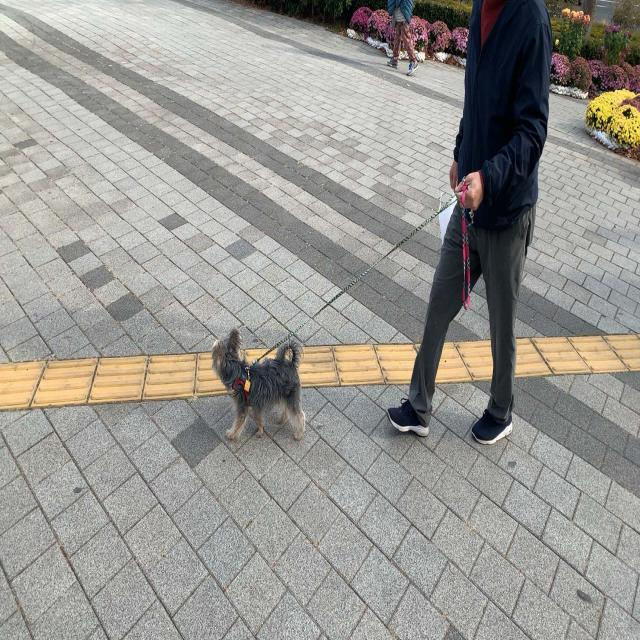Leashed_Dog: (210, 176, 472, 442)
